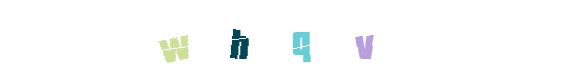H: (199, 0, 279, 80)
Q: (245, 0, 325, 80)
V: (286, 0, 366, 80)
W: (135, 0, 215, 80)
